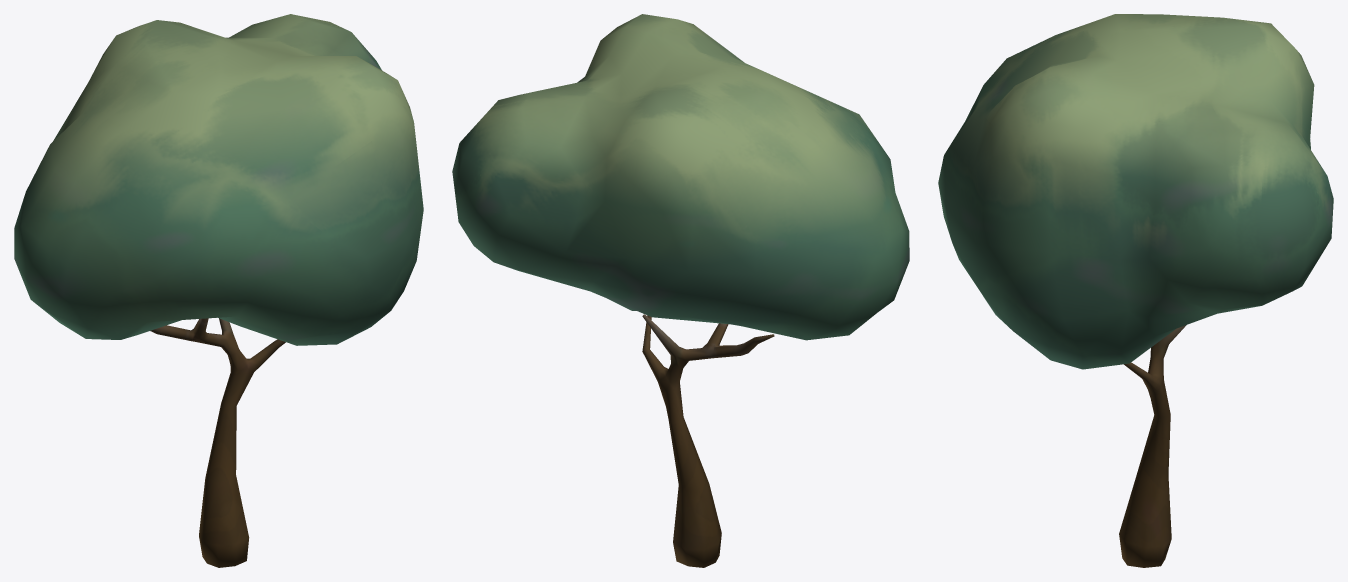
The model's file is Tree_e.glb.
3 renders of one model, left to right at view 1: azimuth 30°, elevation 25°; view 2: azimuth 150°, elevation 25°; view 3: azimuth 270°, elevation 25°, orthographic. The views are drawn at different scales.
Visible parts, largest first — view 1: Round1-Top-Mesh-LQ.001; view 2: Round1-Top-Mesh-LQ.001; view 3: Round1-Top-Mesh-LQ.001.
Boxes of the visible parts, x1,y1,x2,y2 form: Round1-Top-Mesh-LQ.001: [14, 14, 423, 567]; Round1-Top-Mesh-LQ.001: [452, 14, 909, 567]; Round1-Top-Mesh-LQ.001: [938, 14, 1333, 567].
Size of the model in its own units: 5.87 by 7.11 by 4.85.
2 materials, 2 textured.
